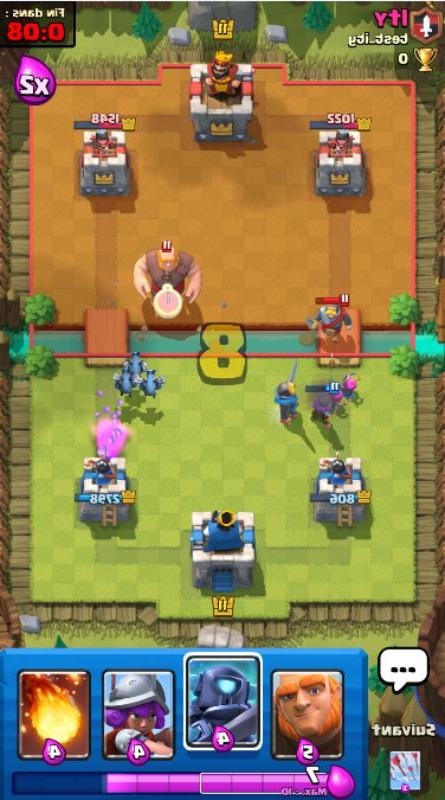archere: (339, 369, 362, 404), (326, 380, 346, 416)
chevalier: (303, 294, 352, 344), (273, 359, 301, 425)
gargouille: (138, 368, 166, 399), (121, 350, 148, 381), (111, 368, 138, 398)
geant: (133, 240, 203, 305)
mousquetaire: (305, 381, 340, 431)
